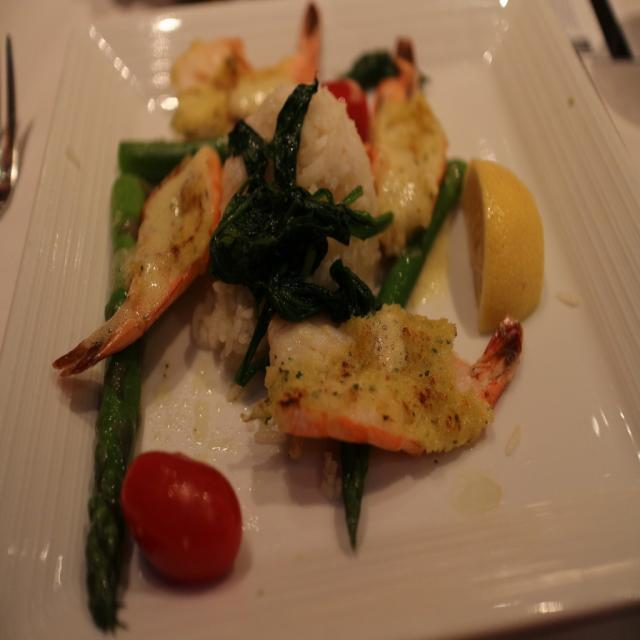Tomato: (118, 449, 254, 597)
